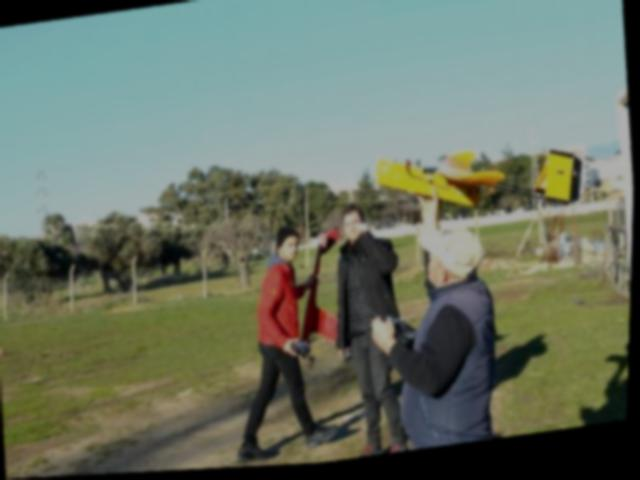iha: (371, 136, 599, 234)
